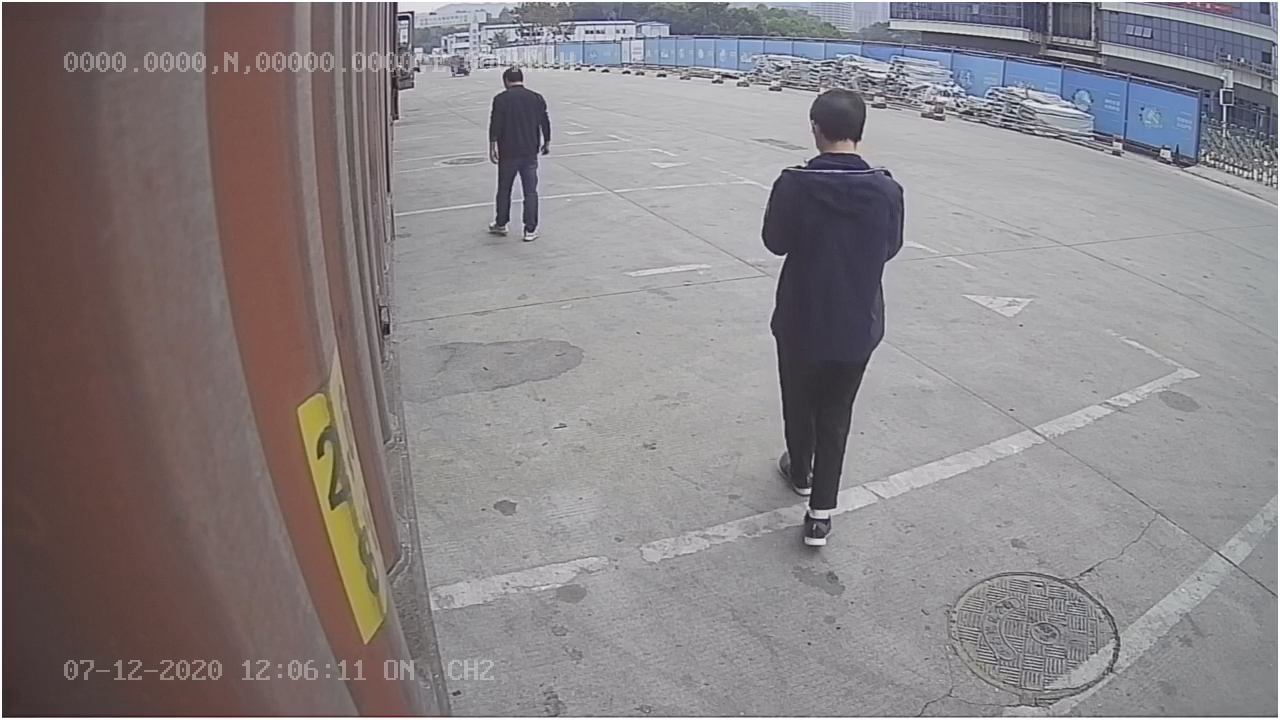person: (755, 87, 918, 556)
